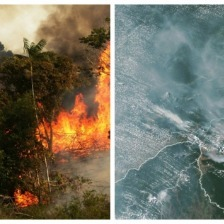incendio: (70, 47, 108, 128), (29, 116, 110, 152), (8, 185, 46, 215)
